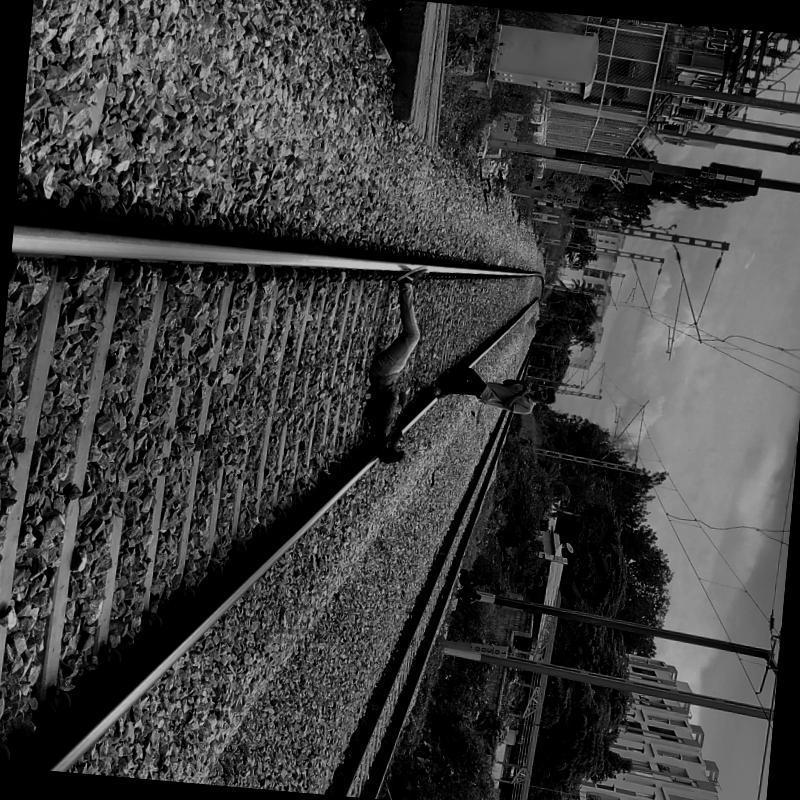sleeping: (358, 253, 444, 470)
